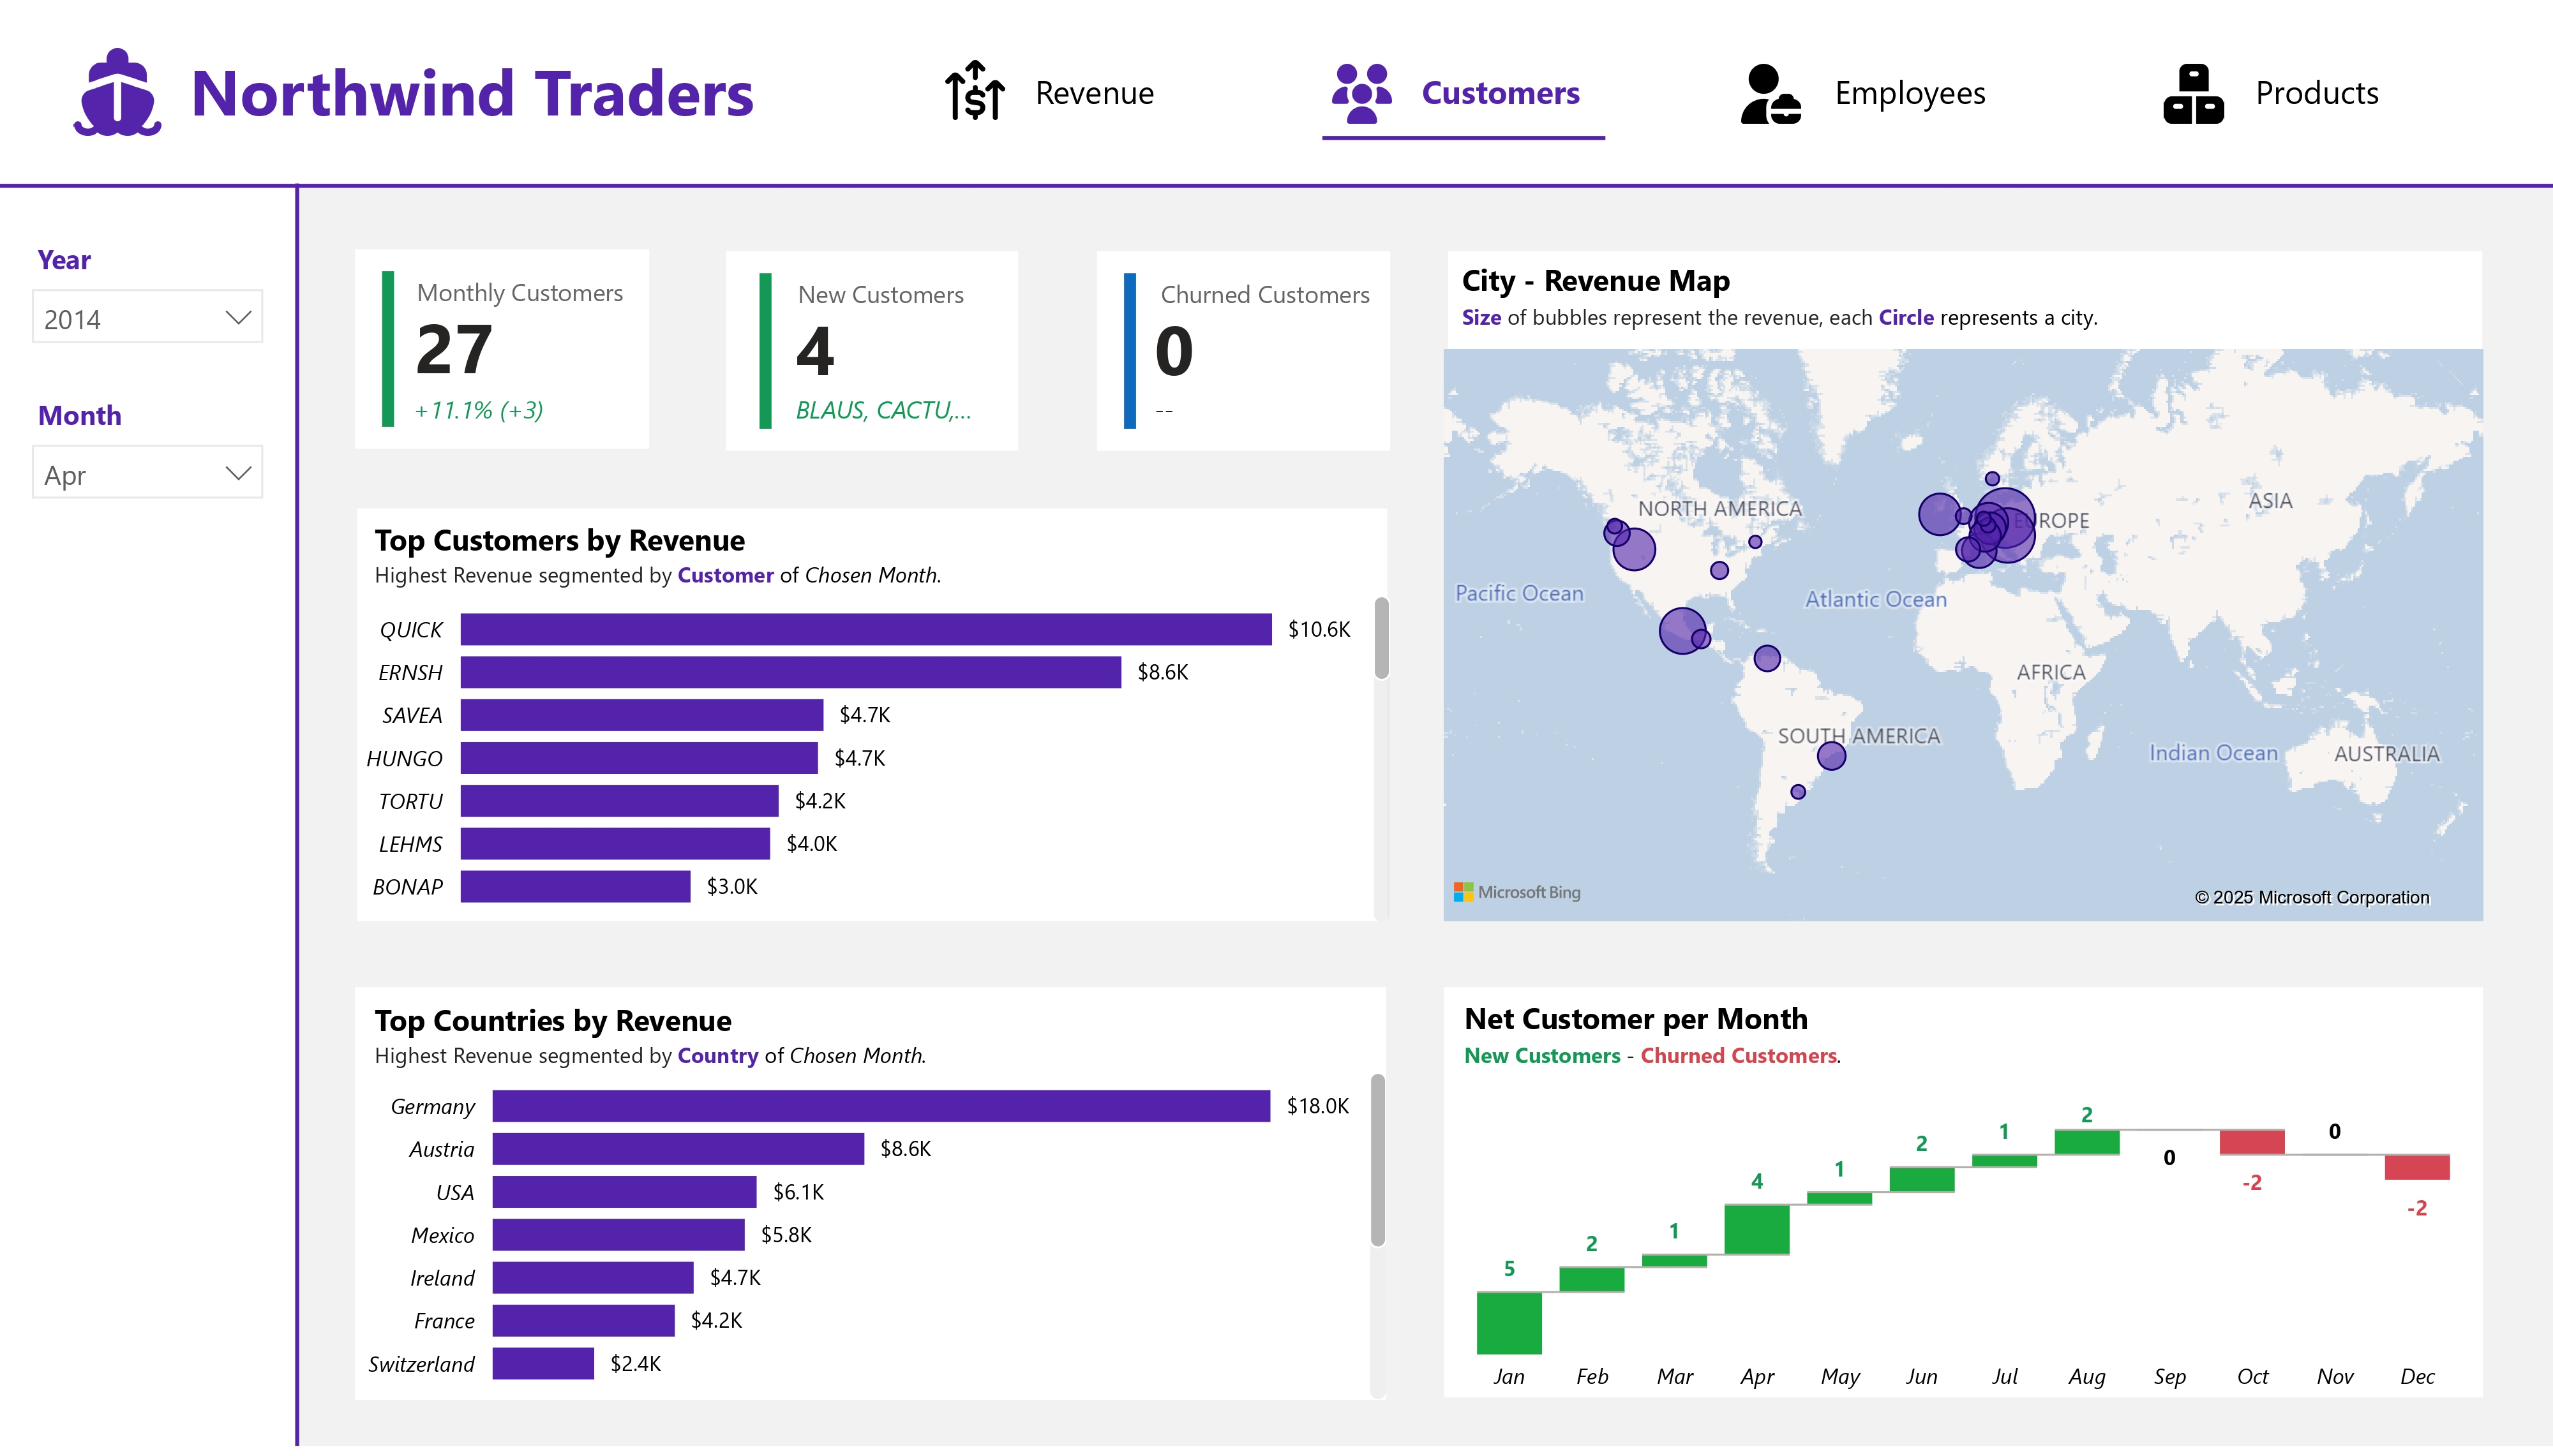

What the dashboard file says about the page in this screenshot:
{"tool":"powerbi","page":{"name":"Customers","canvas":[1280,720],"ordinal":1},"visuals":[{"type":"textbox","box":[90,9.1,310,53.3],"z":0},{"type":"textbox","box":[514,18.9,97.1,34.3],"z":1000},{"type":"image","box":[868.1,16,40,40],"z":2000},{"type":"image","box":[1079.9,16,40,40],"z":3000},{"type":"textbox","box":[708,19.2,97.1,34.1],"z":4000},{"type":"textbox","box":[915.2,18.9,97.1,34.1],"z":5000},{"type":"textbox","box":[1126.1,18.9,96.9,33.8],"z":6000},{"type":"image","box":[468.7,13.3,40,40],"z":7000},{"type":"image","box":[662.5,16.2,40,40],"z":8000},{"type":"shape","box":[662.7,51.5,136.5,12.3],"z":9000},{"type":"image","box":[32.2,11.1,54.4,54.4],"z":10000}]}

Visuals, with their boxes in screenshot pixels (x1, y1, x2, y2), scaled from the page's 1280x720 canvas onto the 2553x1456 screenshot:
textbox: 179/19/798/126
textbox: 1025/38/1219/108
image: 1732/33/1811/113
image: 2154/33/2234/113
textbox: 1412/39/1606/108
textbox: 1825/38/2019/107
textbox: 2246/38/2439/107
image: 935/27/1015/108
image: 1321/33/1401/114
shape: 1322/104/1594/129
image: 64/22/173/133
